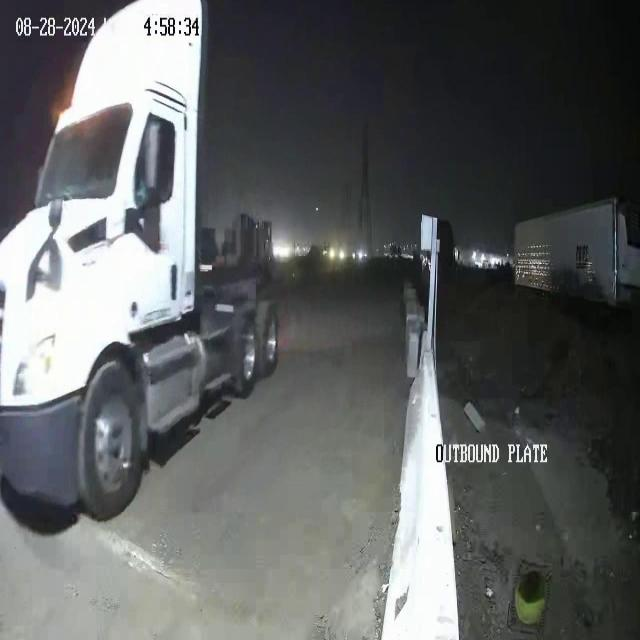TRUCK_OUT: (0, 1, 280, 523)
